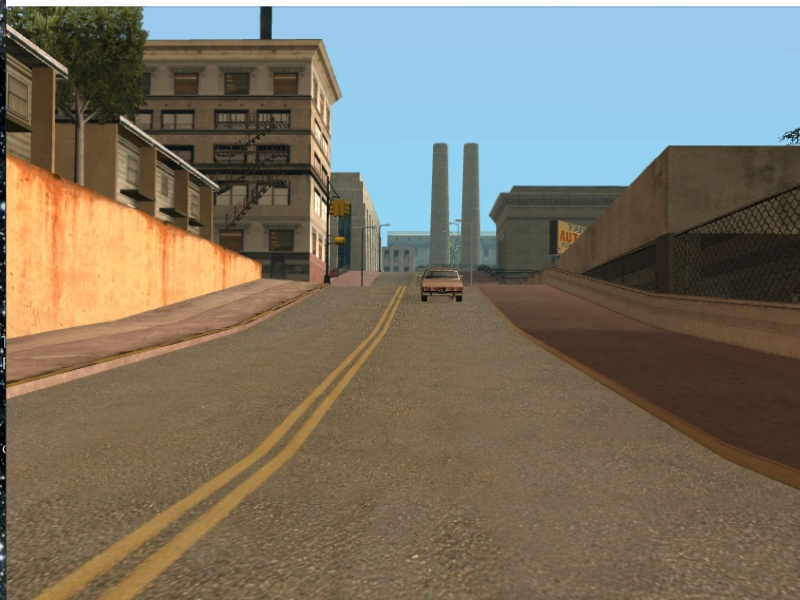pole: (325, 190, 335, 285), (358, 227, 366, 287)
vehicle: (417, 266, 469, 301)
